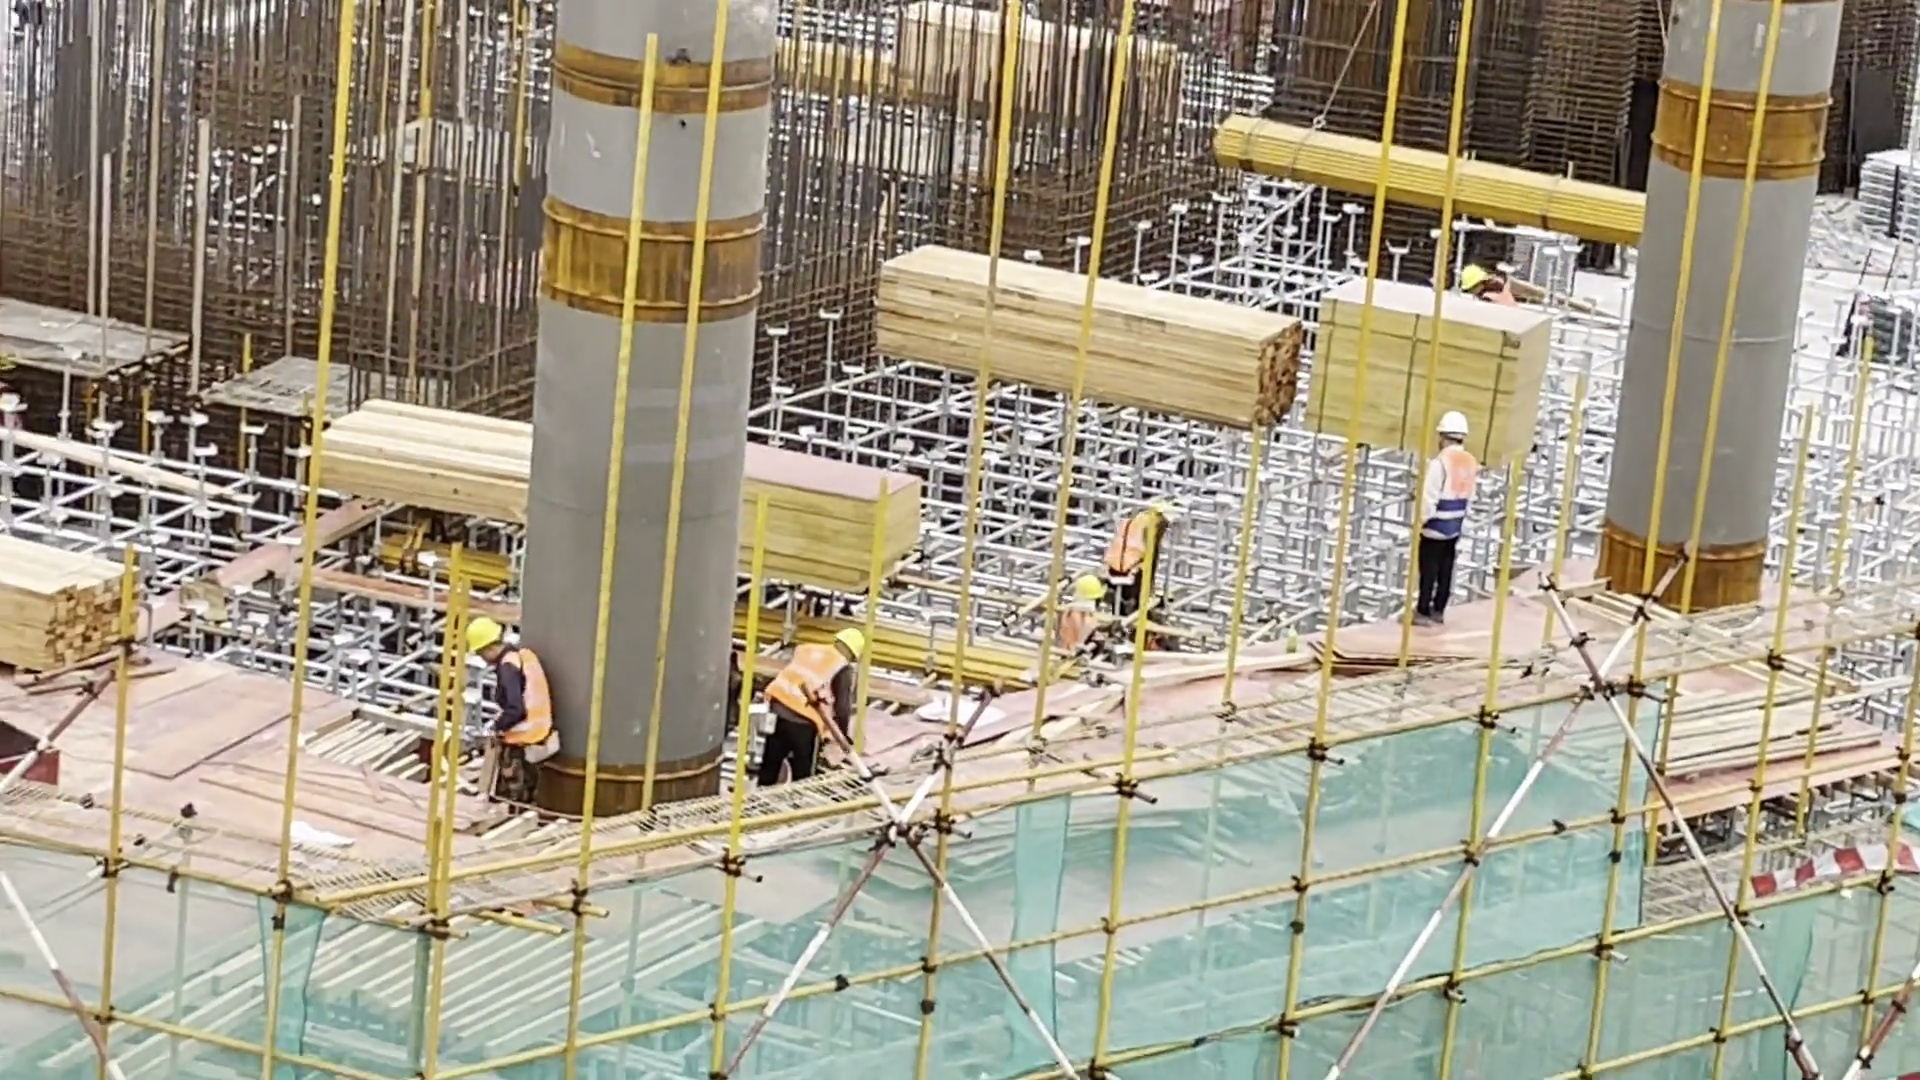helmet: (456, 612, 518, 656), (1434, 398, 1479, 455), (1056, 569, 1103, 614), (1452, 256, 1489, 301), (836, 626, 878, 665)
person: (456, 617, 567, 799), (761, 625, 864, 803), (1420, 406, 1469, 617), (1102, 498, 1164, 600), (1460, 261, 1528, 328)
vest: (474, 655, 550, 737), (774, 645, 841, 715), (1430, 452, 1477, 535), (1114, 516, 1155, 573), (1053, 612, 1102, 652), (1490, 288, 1522, 308)
